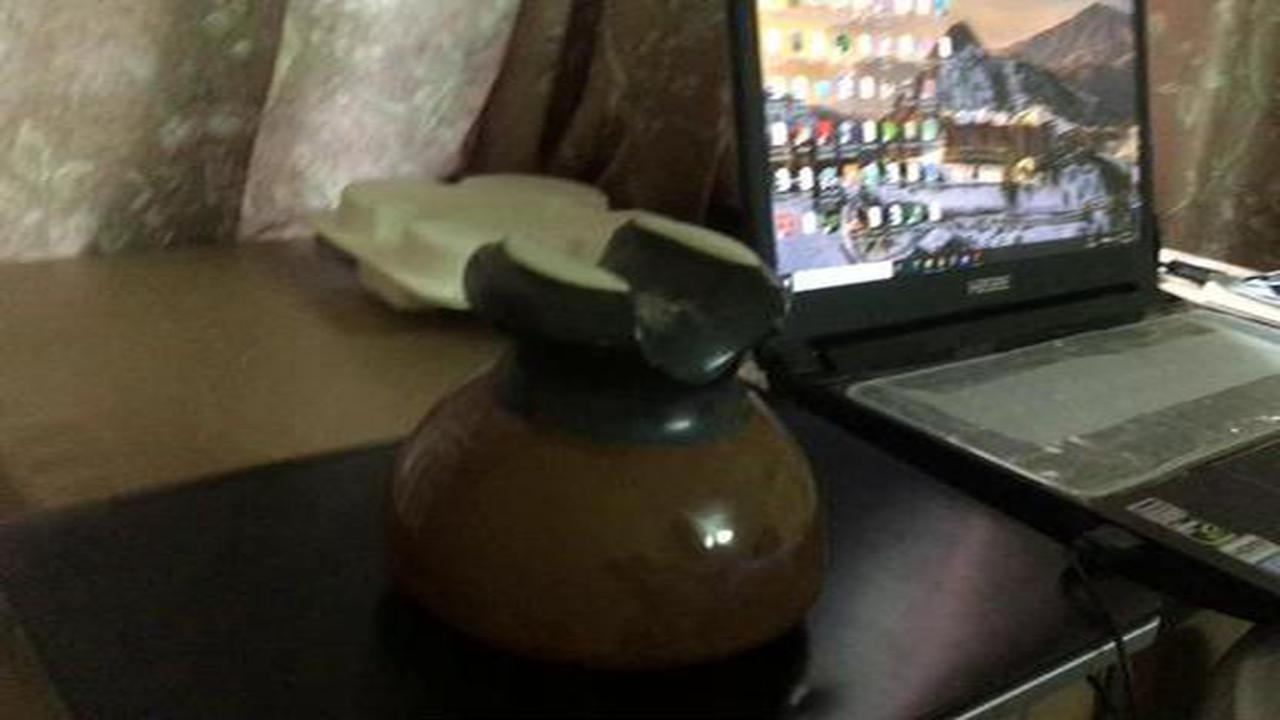insulator_pin: (376, 201, 850, 676)
